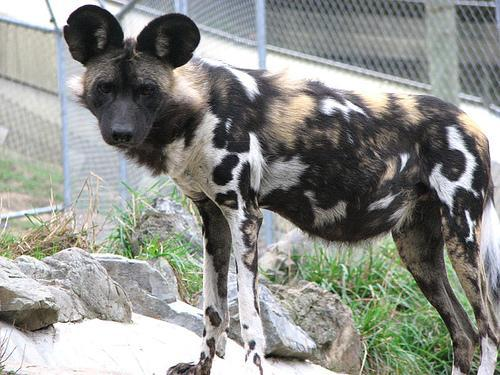African_hunting_dog: (63, 4, 499, 374)
